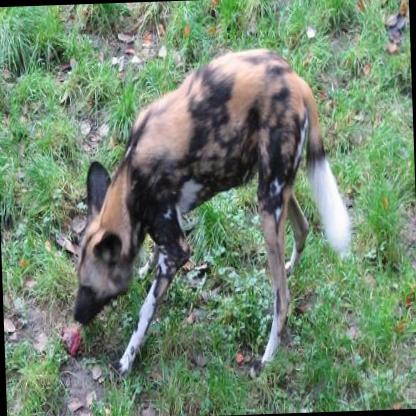African_hunting_dog: (65, 44, 352, 371)
